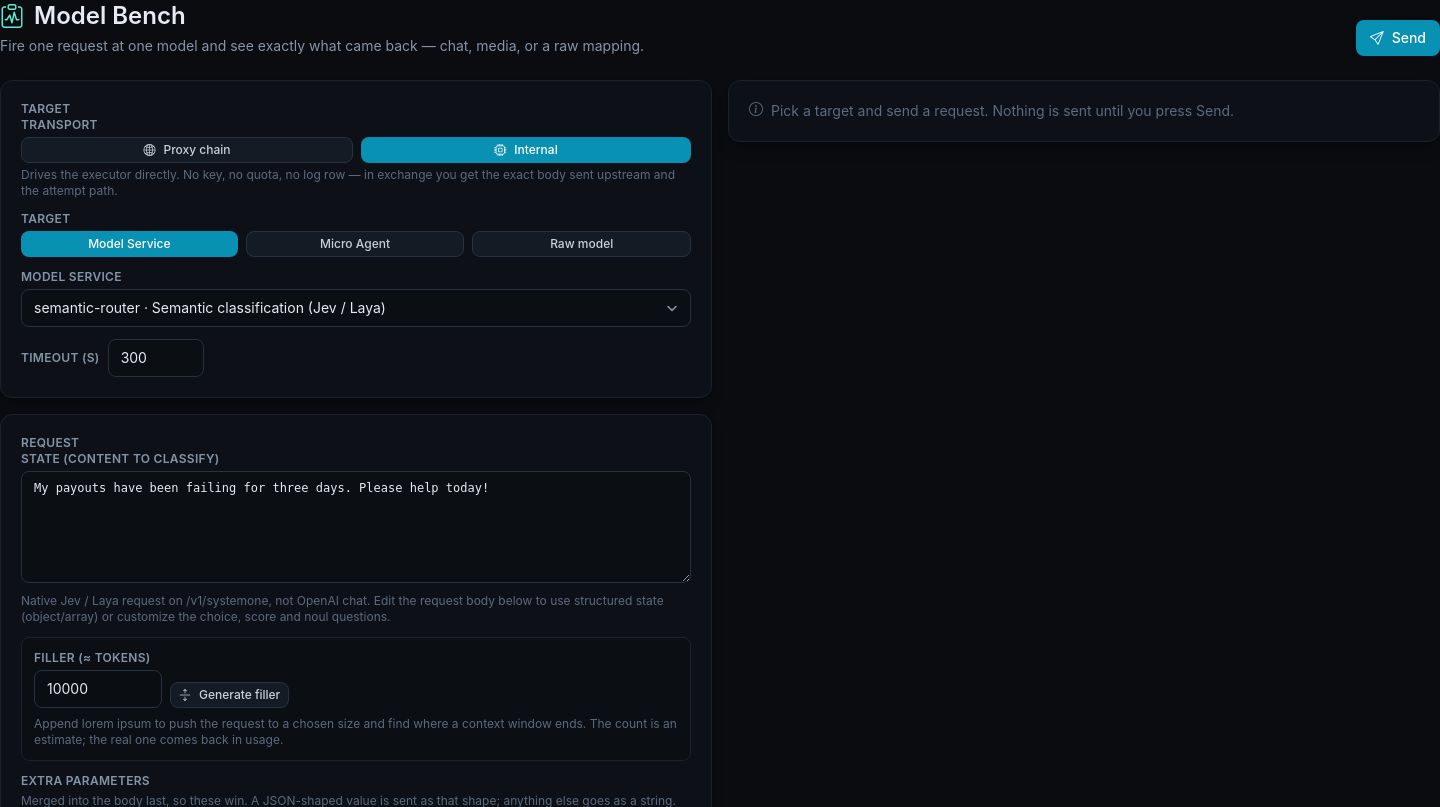
classification Model Bench › sends native choice/score/noul defaults through the non-chat internal route
Expected: the button "Send" is enabled, top-left (1356, 20), bottom-right (1439, 56)
Expected: the text "Stream" is not shown
Replace the text in the text box with "I was charged twice. Please refund me today." at (356, 527), box top-left (21, 471), bottom-right (691, 583)
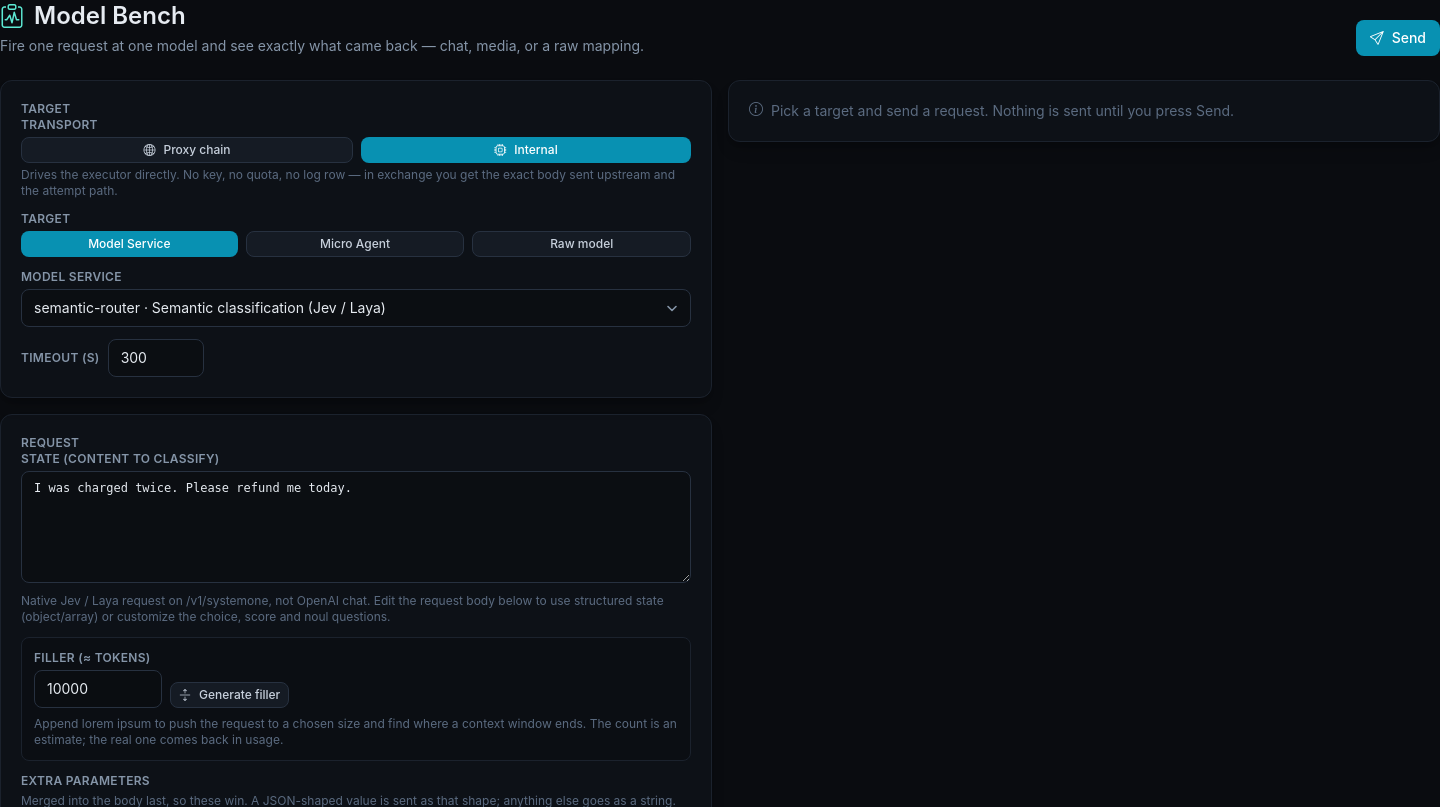
Click the button "Send" at (1398, 38), box top-left (1356, 20), bottom-right (1439, 56)
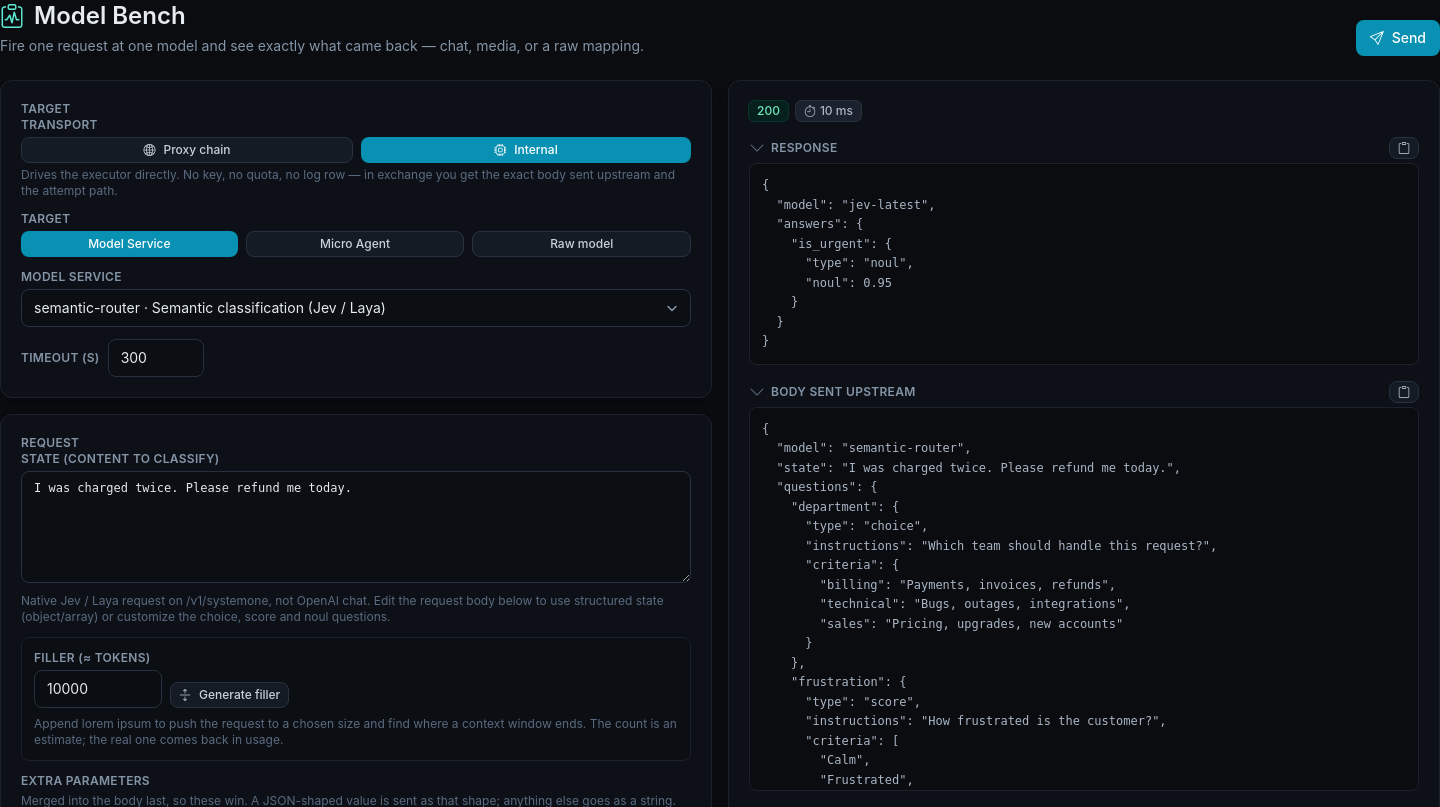
Now the heading "Response" is shown, box top-left (771, 140), bottom-right (838, 156)
